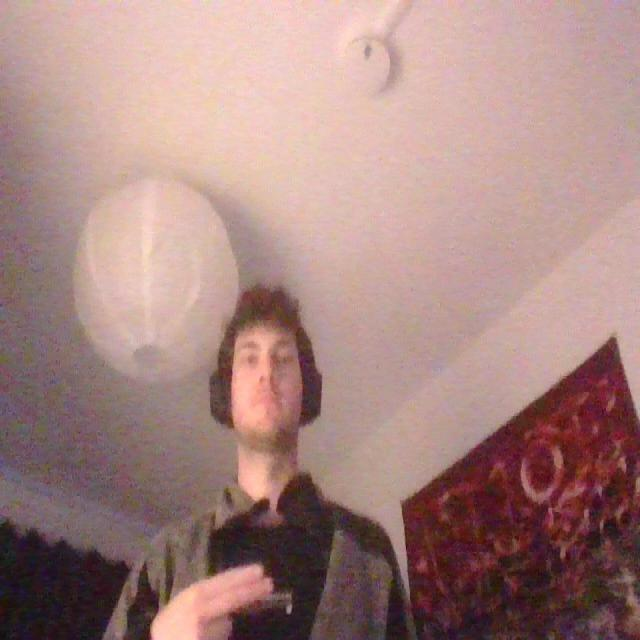right: (145, 561, 285, 639)
